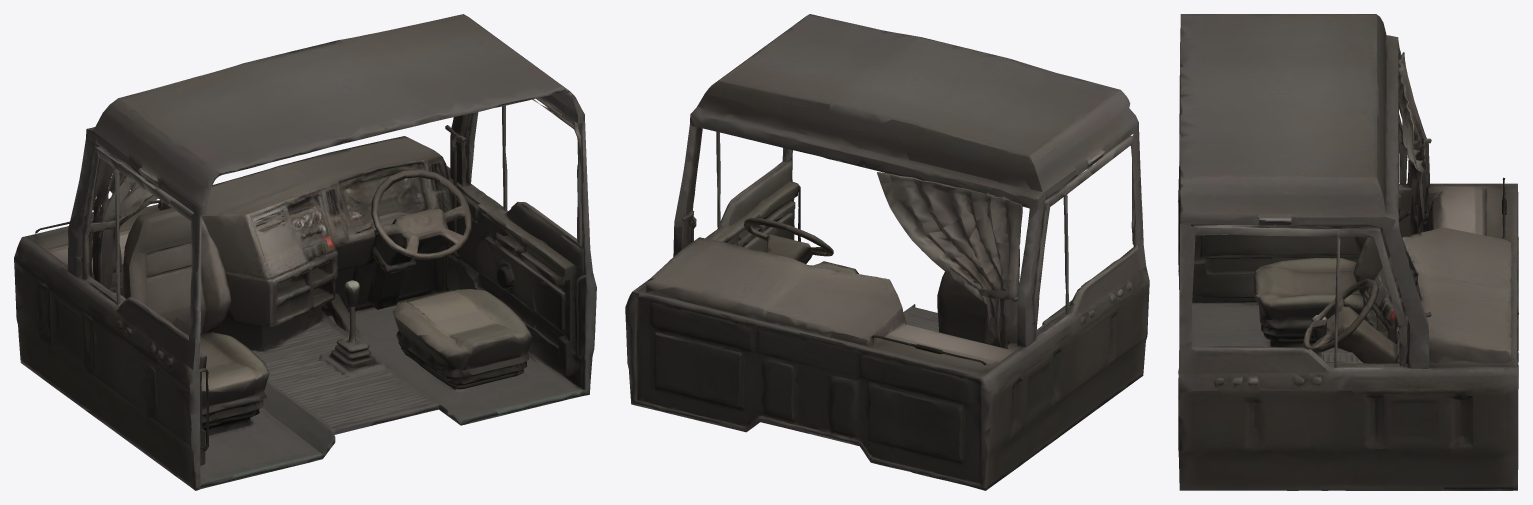
File: int_caminhao.glb
3 views of the same model, side by side, from view 1: azimuth 30°, elevation 25°; view 2: azimuth 150°, elevation 25°; view 3: azimuth 270°, elevation 25° (orthographic). The views are drawn at different scales.
Parts seen in each view (by area): view 1: veiculo; view 2: veiculo; view 3: veiculo.
Part boxes in pixels (bbox=[...]): veiculo: bbox=[14, 14, 596, 490]; veiculo: bbox=[625, 14, 1149, 490]; veiculo: bbox=[1178, 14, 1518, 490].
Bounding box in the file's own units: 2.1 × 1.56 × 1.57.
Materials: 1 (1 with a texture image).
